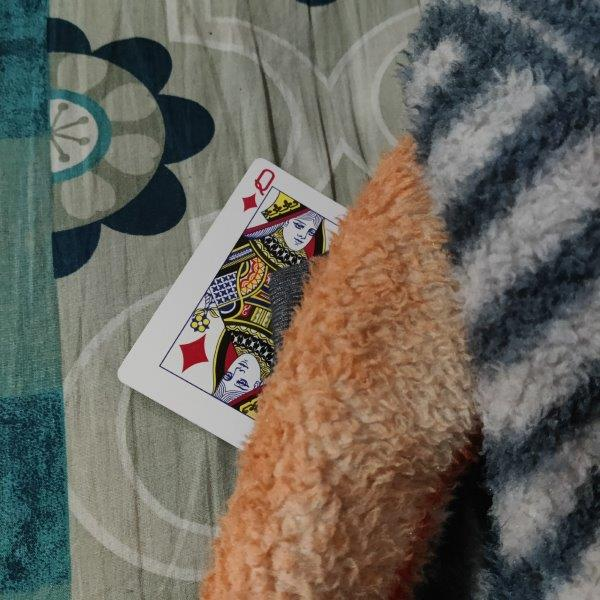Queen of Diamonds: (118, 158, 352, 455)
